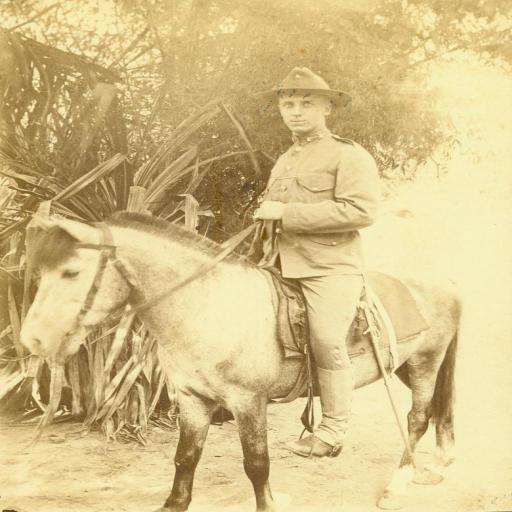horse: (15, 208, 468, 512)
